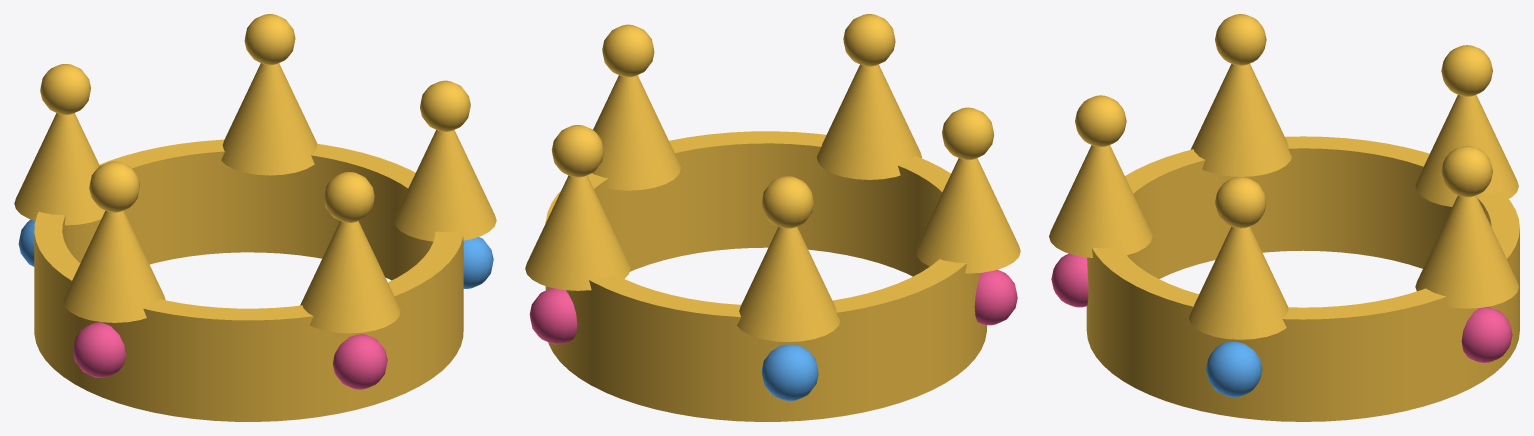
File: crown.fbx
3 renders of one model, left to right at view 1: azimuth 30°, elevation 25°; view 2: azimuth 150°, elevation 25°; view 3: azimuth 270°, elevation 25°, orthographic. The views are drawn at different scales.
Visible parts, largest first — view 1: Tube001, Cone004, Cone002, Cone006, Cone003, Cone005, Sphere034, Sphere042, Sphere041, Sphere035, Sphere037, Sphere033 (+3 smaller); view 2: Tube001, Cone005, Cone002, Cone004, Cone006, Cone003, Sphere040, Sphere033, Sphere041, Sphere035, Sphere037, Sphere039 (+2 smaller); view 3: Tube001, Cone003, Cone006, Cone004, Cone002, Cone005, Sphere036, Sphere038, Sphere037, Sphere035, Sphere033, Sphere041 (+2 smaller).
Part boxes in pixels (left/top/right/bottom): Tube001: left=34, top=139, right=463, bottom=421; Cone004: left=221, top=63, right=317, bottom=175; Cone002: left=300, top=221, right=400, bottom=333; Cone006: left=63, top=210, right=165, bottom=322; Cone003: left=394, top=130, right=496, bottom=241; Cone005: left=14, top=113, right=105, bottom=225; Sphere034: left=333, top=334, right=387, bottom=389; Sphere042: left=73, top=322, right=125, bottom=377; Sphere041: left=89, top=161, right=139, bottom=212; Sphere035: left=420, top=80, right=470, bottom=131; Sphere037: left=244, top=14, right=295, bottom=65; Sphere033: left=324, top=172, right=374, bottom=222; Tube001: left=545, top=131, right=986, bottom=421; Cone005: left=737, top=226, right=839, bottom=341; Cone002: left=816, top=64, right=921, bottom=179; Cone004: left=525, top=175, right=630, bottom=290; Cone006: left=915, top=158, right=1020, bottom=273; Cone003: left=592, top=75, right=680, bottom=190; Sphere040: left=761, top=344, right=818, bottom=400; Sphere033: left=843, top=14, right=895, bottom=66; Sphere041: left=942, top=107, right=994, bottom=160; Sphere035: left=602, top=24, right=654, bottom=77; Sphere037: left=551, top=125, right=603, bottom=177; Sphere039: left=761, top=176, right=813, bottom=228; Tube001: left=1086, top=136, right=1519, bottom=421; Cone003: left=1189, top=226, right=1288, bottom=339; Cone006: left=1190, top=63, right=1291, bottom=176; Cone004: left=1415, top=195, right=1518, bottom=308; Cone002: left=1049, top=145, right=1152, bottom=257; Cone005: left=1415, top=95, right=1518, bottom=206; Sphere036: left=1206, top=341, right=1262, bottom=397; Sphere038: left=1461, top=307, right=1512, bottom=362; Sphere037: left=1441, top=145, right=1492, bottom=197; Sphere035: left=1215, top=176, right=1266, bottom=228; Sphere033: left=1075, top=95, right=1126, bottom=146; Sphere041: left=1215, top=14, right=1266, bottom=65.
Size of the model in its own units: 10.38 by 5.45 by 10.
